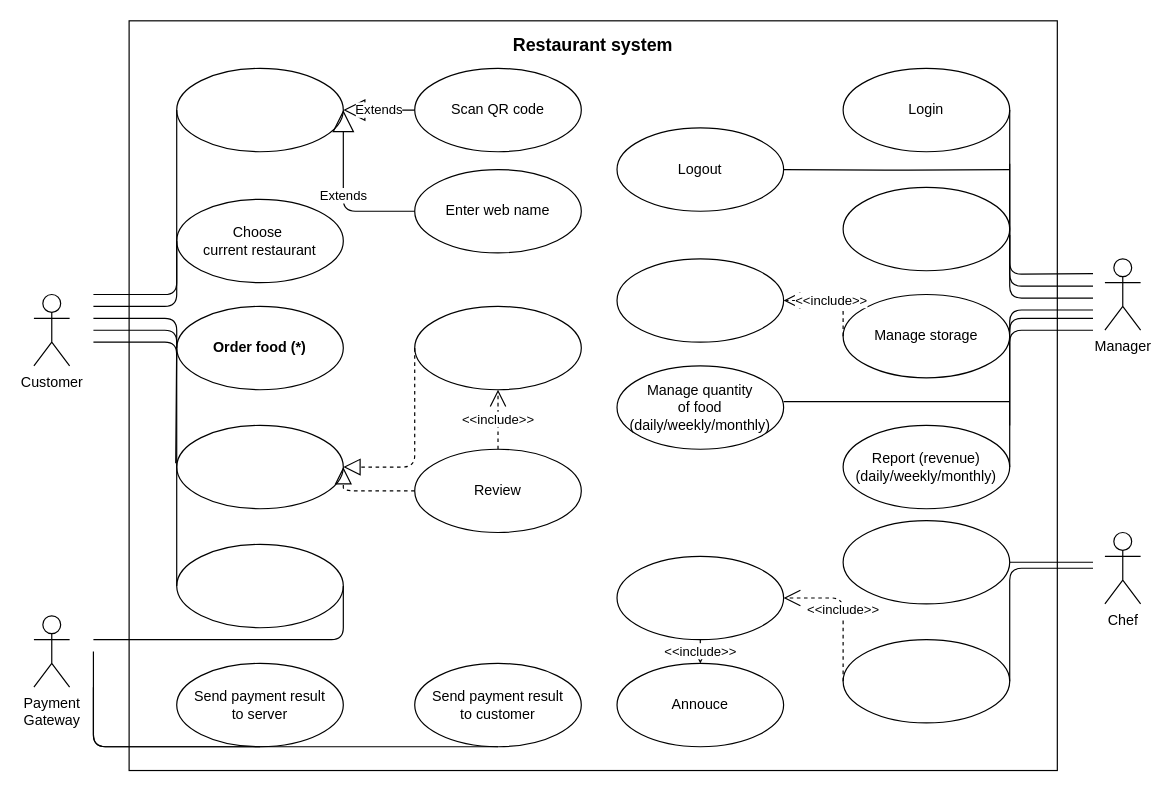
Some shapes in this 1171 by 791 pixel diagram are drawn without their labels. The centre of each missing label's shape, as x and y in pixels:
Access Web page: the point at 259,109
Create menu (*): the point at 926,228
Deliver Food: the point at 926,680
Edit item & quantity: the point at 700,300
Name the order's slot: the point at 700,597
Payment (*): the point at 259,585
Process Food Order (*): the point at 926,561
Rate: the point at 497,347
Rate & review: the point at 259,466
